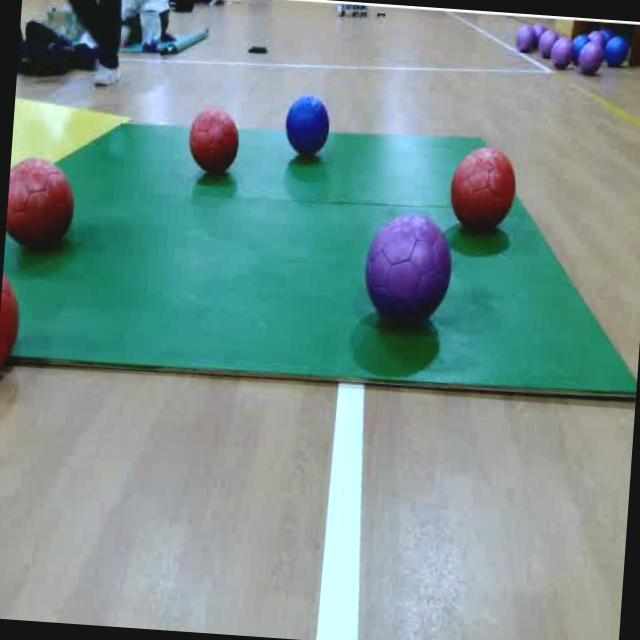blue_ball: (281, 94, 331, 158)
purple_ball: (361, 212, 456, 324)
red_ball: (4, 158, 78, 246), (448, 145, 518, 233), (184, 108, 242, 177), (0, 273, 19, 381)
